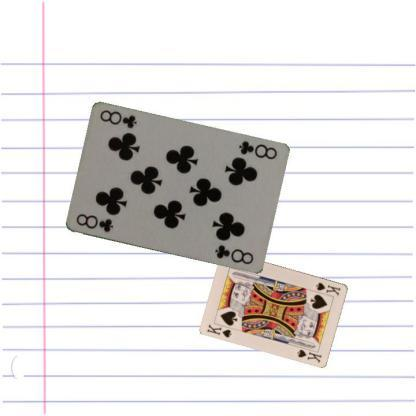8c: (72, 211, 115, 234), (236, 138, 278, 161)
Ks: (204, 321, 234, 339), (314, 280, 342, 298)
